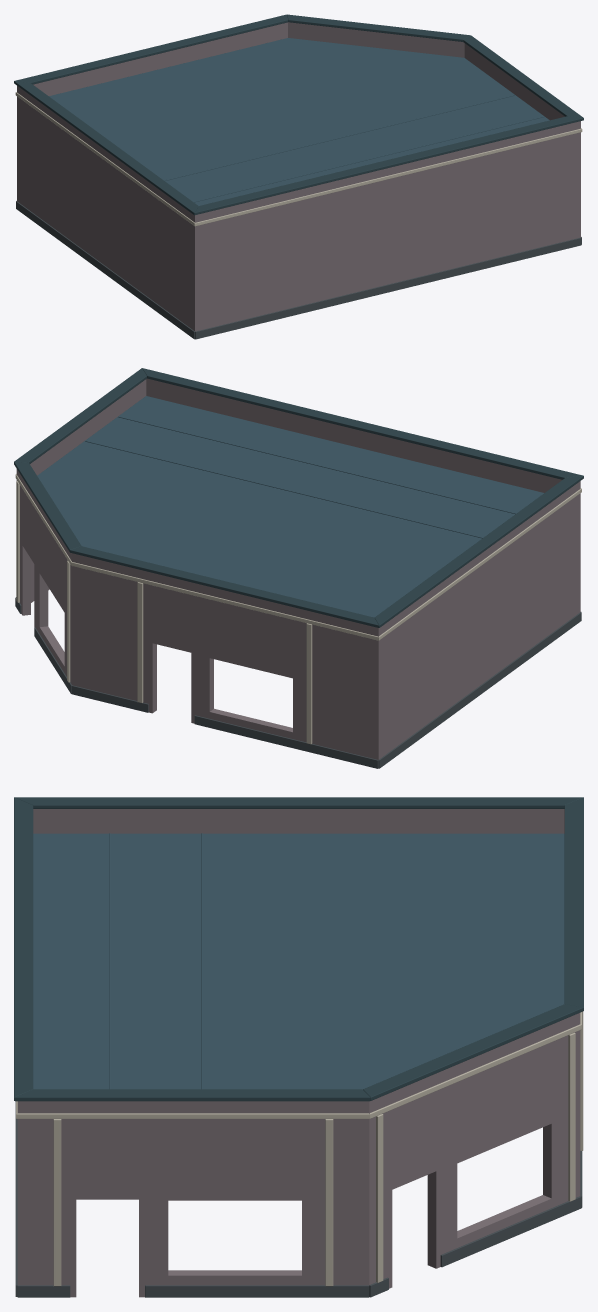
Rendered from d06_shopfront_blocks_03.glb.
3 views of the same model, one above another, from view 1: azimuth 30°, elevation 25°; view 2: azimuth 150°, elevation 25°; view 3: azimuth 270°, elevation 25° (orthographic). The views are drawn at different scales.
Visible parts, largest first — view 1: quiet_pentagonal_roof, facade_3_wall, facade_4_wall, facade_0_wall, coping_3, plinth_3_0, facade_1_wall, coping_0, coping_4, head_course_3, plinth_4_0, coping_1 (+5 smaller); view 2: quiet_pentagonal_roof, facade_0_wall, facade_4_wall, facade_3_wall, facade_1_wall, coping_3, coping_0, coping_4, facade_2_wall, plinth_4_0, coping_2, plinth_0_0 (+8 smaller); view 3: quiet_pentagonal_roof, facade_2_wall, facade_1_wall, facade_4_wall, coping_4, coping_3, coping_2, coping_0, coping_1, plinth_2_0, head_course_2, plinth_1_0 (+6 smaller).
Boxes of the visible parts, bbox=[...] form: quiet_pentagonal_roof: bbox=[49, 38, 549, 205]; facade_3_wall: bbox=[195, 121, 580, 331]; facade_4_wall: bbox=[17, 86, 194, 330]; facade_0_wall: bbox=[33, 22, 287, 95]; coping_3: bbox=[194, 116, 583, 215]; plinth_3_0: bbox=[195, 237, 581, 339]; facade_1_wall: bbox=[288, 22, 464, 57]; coping_0: bbox=[15, 14, 288, 84]; coping_4: bbox=[14, 81, 198, 214]; head_course_3: bbox=[195, 128, 582, 226]; plinth_4_0: bbox=[16, 201, 194, 339]; coping_1: bbox=[287, 14, 470, 41]; quiet_pentagonal_roof: bbox=[37, 396, 543, 617]; facade_0_wall: bbox=[72, 553, 378, 759]; facade_4_wall: bbox=[378, 481, 580, 759]; facade_3_wall: bbox=[146, 378, 561, 492]; facade_1_wall: bbox=[16, 469, 71, 684]; coping_3: bbox=[142, 368, 583, 479]; coping_0: bbox=[70, 546, 379, 627]; coping_4: bbox=[374, 476, 583, 627]; facade_2_wall: bbox=[30, 379, 146, 602]; plinth_4_0: bbox=[378, 612, 581, 768]; coping_2: bbox=[14, 368, 146, 463]; plinth_0_0: bbox=[194, 715, 378, 768]; quiet_pentagonal_roof: bbox=[33, 833, 564, 1089]; facade_2_wall: bbox=[17, 1101, 369, 1297]; facade_1_wall: bbox=[369, 1013, 580, 1288]; facade_4_wall: bbox=[33, 809, 564, 833]; coping_4: bbox=[15, 797, 582, 808]; coping_3: bbox=[14, 797, 33, 1100]; coping_2: bbox=[14, 1089, 370, 1101]; coping_0: bbox=[564, 797, 583, 1010]; coping_1: bbox=[363, 1004, 583, 1100]; plinth_2_0: bbox=[145, 1285, 369, 1297]; head_course_2: bbox=[16, 1113, 369, 1118]; plinth_1_0: bbox=[440, 1196, 581, 1267].
Size of the model in its own units: 16.16 by 5.05 by 12.96.
